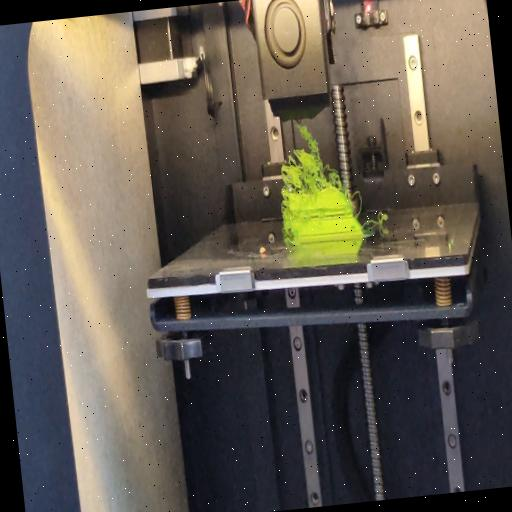spaghetti: (276, 118, 348, 196), (364, 210, 392, 228), (352, 190, 364, 218), (285, 230, 294, 246)
